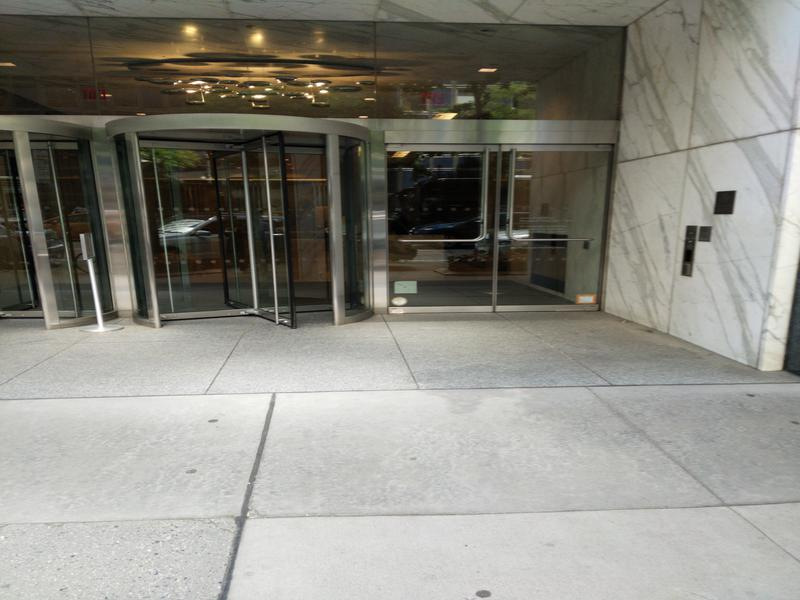double_door: (388, 129, 613, 320)
revolving_door: (115, 116, 372, 329)
